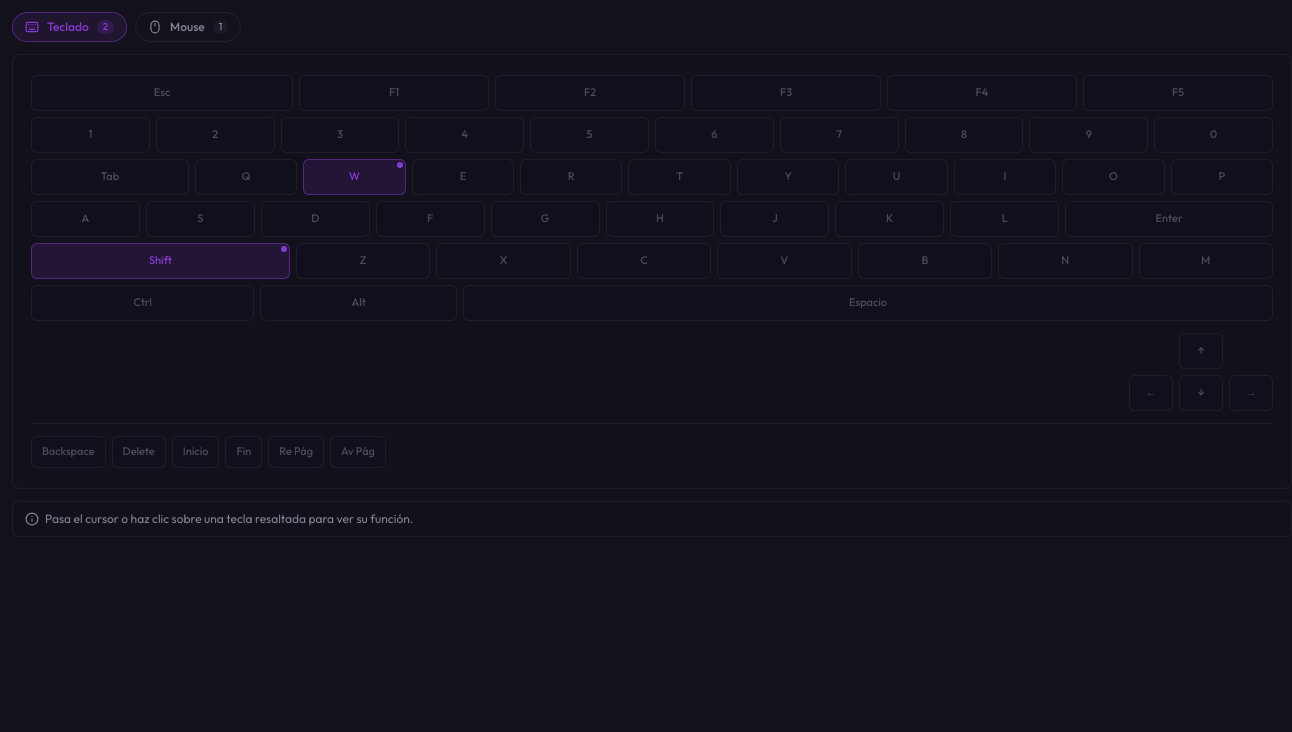
ControlsViewer › muestra la acción de la tecla al hacer clic sobre ella
The width and height of the screenshot is (1292, 732).
Click the button titled "W — Avanzar": (354, 177) 303,159 -> 406,195
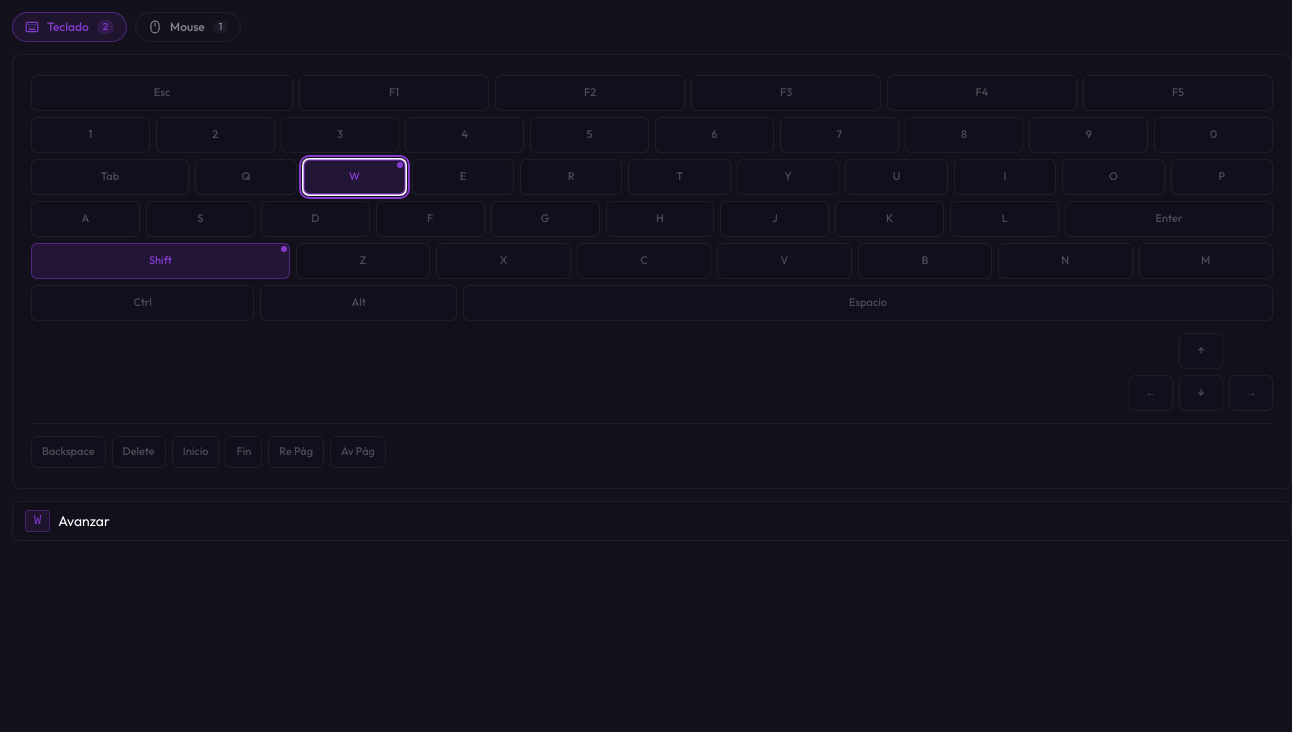
Check: the text "Avanzar" is shown, box 58,511 -> 110,531
